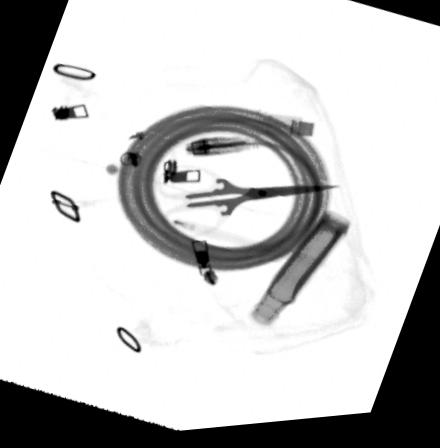Scissors: (160, 169, 344, 239)
